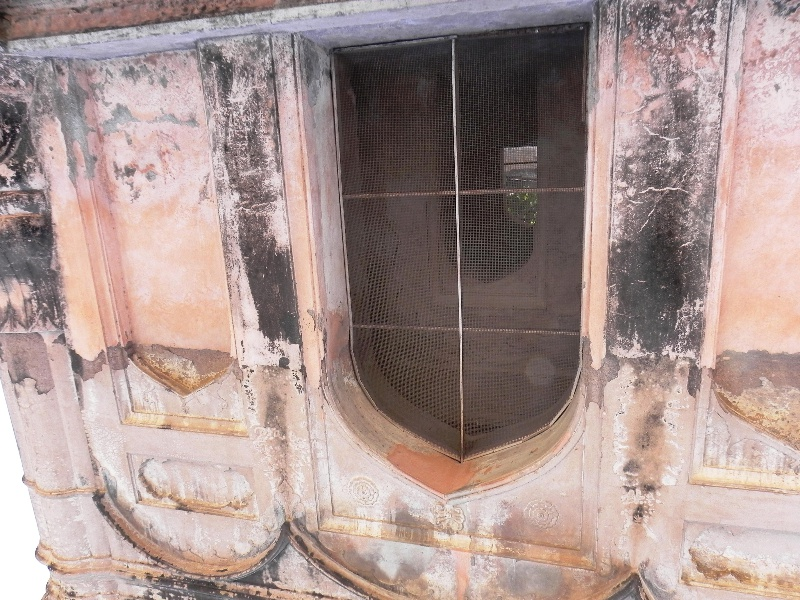Spalling: (1, 324, 57, 403), (581, 333, 622, 417), (69, 344, 141, 390)
